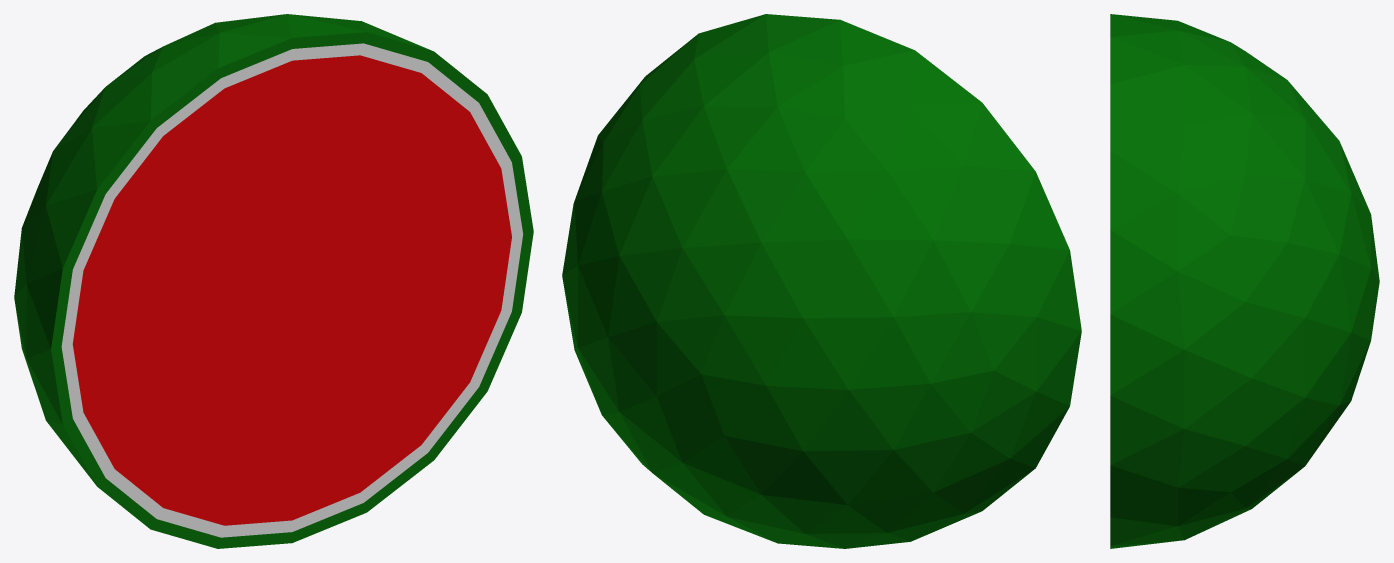
The model's file is pastequeMoitie.fbx.
3 views of the same model, side by side, from view 1: azimuth 30°, elevation 25°; view 2: azimuth 150°, elevation 25°; view 3: azimuth 270°, elevation 25° (orthographic). The views are drawn at different scales.
Parts seen in each view (by area): view 1: pasteque; view 2: pasteque; view 3: pasteque.
Part boxes in pixels (x1,y1,x2,y2): pasteque: (14, 14, 533, 548); pasteque: (562, 14, 1081, 548); pasteque: (1110, 14, 1379, 548).
Size of the model in its own units: 200 by 200 by 100.
